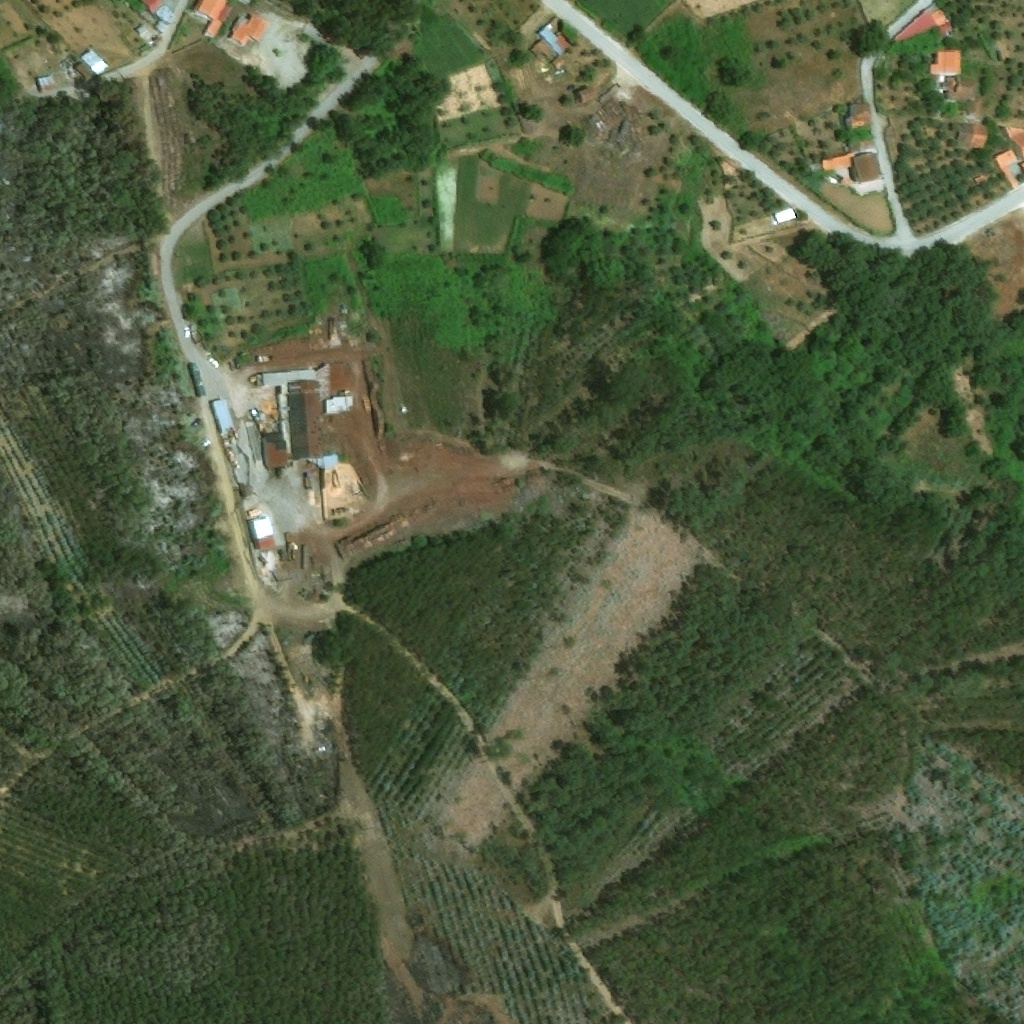0 no-damage: (255, 364, 355, 473), (821, 138, 884, 183), (893, 4, 959, 46), (528, 16, 574, 63), (991, 127, 1023, 190), (191, 0, 234, 40), (227, 13, 271, 46), (247, 516, 278, 555), (939, 76, 979, 101), (209, 399, 236, 435), (844, 102, 875, 131), (79, 48, 109, 77), (956, 123, 990, 148), (930, 49, 961, 75), (153, 4, 176, 34), (576, 86, 599, 106), (37, 74, 61, 93), (773, 208, 797, 226), (73, 63, 91, 80), (551, 58, 565, 71)
4 un-classified: (137, 0, 165, 16), (161, 0, 183, 12)
